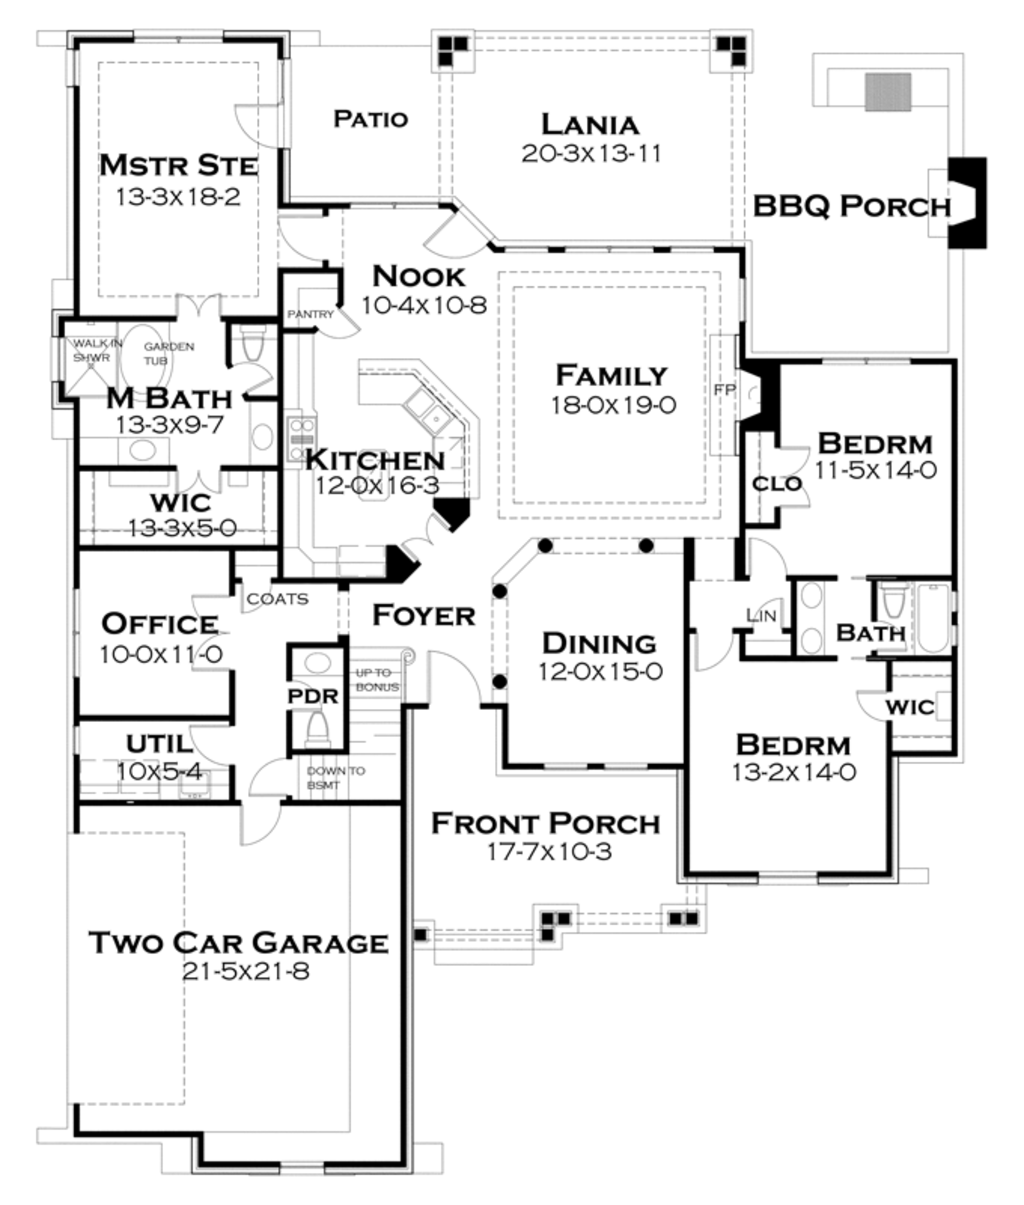door: (414, 185, 503, 280), (267, 195, 356, 263), (754, 440, 827, 521), (420, 638, 493, 716), (390, 502, 467, 570), (178, 587, 239, 670), (229, 99, 305, 153), (222, 792, 291, 851), (240, 746, 308, 800), (301, 302, 376, 348), (844, 680, 912, 730), (227, 563, 282, 617), (739, 533, 795, 585), (188, 714, 246, 763), (157, 280, 231, 317), (691, 625, 742, 674), (225, 353, 278, 395), (171, 468, 242, 500), (865, 617, 918, 657)
kitchen_bar: (356, 348, 508, 508)
large_sink: (222, 317, 299, 368), (295, 695, 361, 746), (867, 568, 918, 627)
small_sink: (244, 400, 290, 482), (790, 583, 835, 665), (103, 423, 184, 466), (290, 649, 351, 676)
twin_sink: (391, 359, 457, 440)
window: (527, 744, 656, 785), (59, 587, 103, 678), (505, 242, 720, 259), (125, 23, 244, 53), (799, 344, 914, 370), (273, 1151, 342, 1185), (750, 866, 835, 883)
